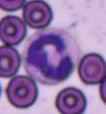N: (24, 27, 79, 85)
